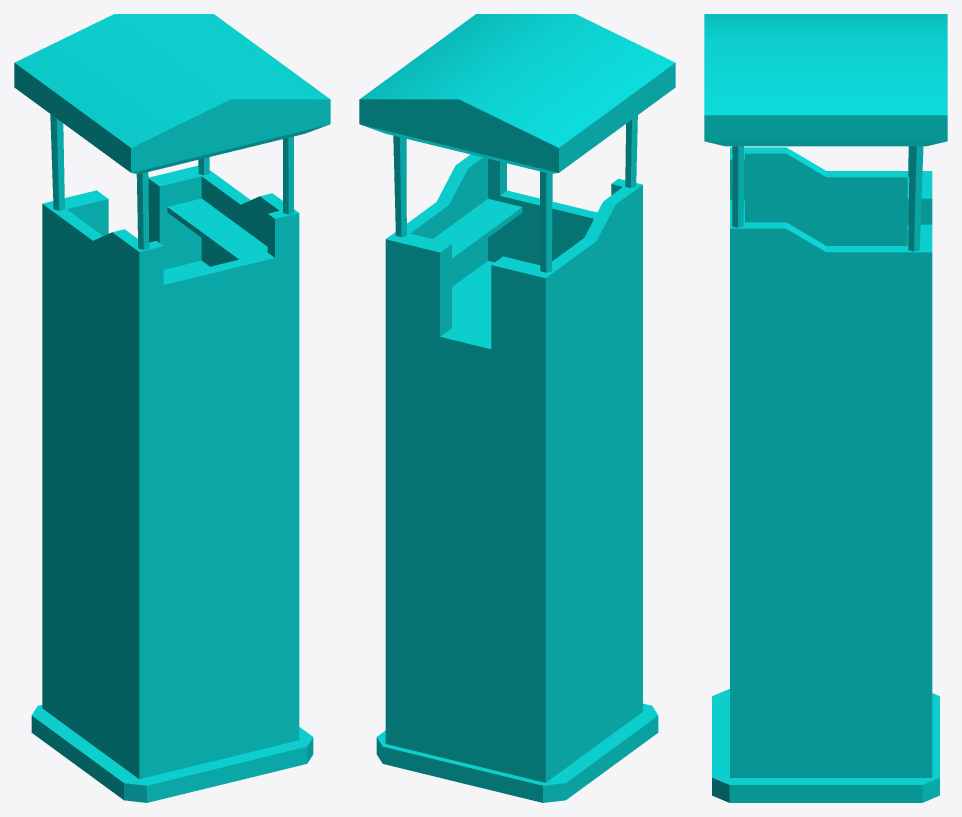
File: SM_Prop_Flag_box_01_Collision.fbx
3 views of the same model, side by side, from view 1: azimuth 30°, elevation 25°; view 2: azimuth 150°, elevation 25°; view 3: azimuth 270°, elevation 25° (orthographic). The views are drawn at different scales.
Parts seen in each view (by area): view 1: SM_Prop_Flag_box_01_Collision; view 2: SM_Prop_Flag_box_01_Collision; view 3: SM_Prop_Flag_box_01_Collision.
Boxes of the visible parts, bbox=[...] form: SM_Prop_Flag_box_01_Collision: bbox=[14, 14, 330, 802]; SM_Prop_Flag_box_01_Collision: bbox=[359, 14, 675, 802]; SM_Prop_Flag_box_01_Collision: bbox=[704, 14, 947, 802].
Size of the model in its own units: 238 by 784 by 241.
